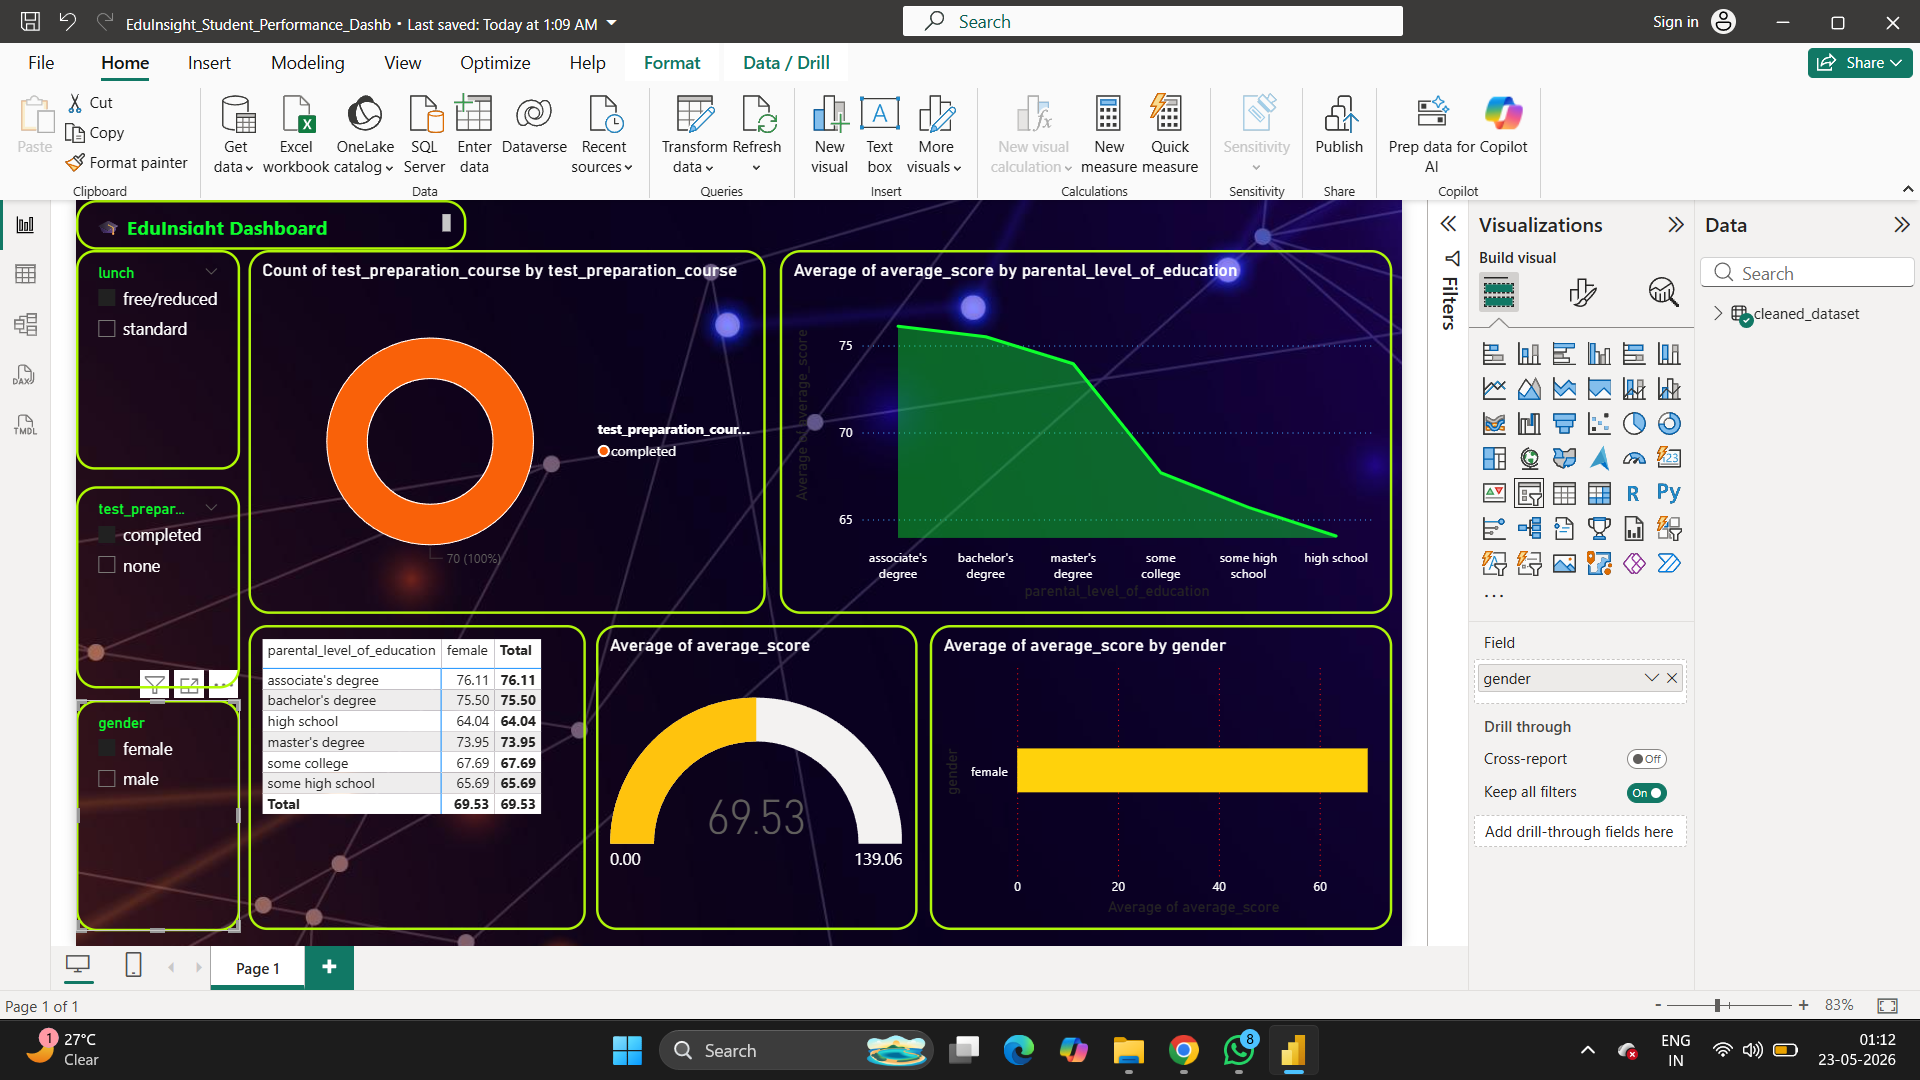

The page's visual inventory and layout, read from the dashboard file:
{"tool":"powerbi","page":{"name":"Page 1","canvas":[1280,720],"ordinal":0},"visuals":[{"type":"gauge","fields":{"Y":["Avg(cleaned_dataset.average_score)"]},"box":[501.9,410.2,310.1,294.4],"z":0},{"type":"barChart","fields":{"Category":["cleaned_dataset.gender"],"Y":["Avg(cleaned_dataset.average_score)"]},"box":[824,410.2,446.4,294.4],"z":1000},{"type":"donutChart","fields":{"Category":["cleaned_dataset.test_preparation_course"],"Y":["CountNonNull(cleaned_dataset.test_preparation_course)"]},"box":[166.5,48.3,499.5,351.1],"z":2000},{"type":"areaChart","fields":{"Category":["cleaned_dataset.parental_level_of_education"],"Y":["Avg(cleaned_dataset.average_score)"]},"box":[679.2,48.3,591.2,351.1],"z":3000},{"type":"pivotTable","fields":{"Rows":["cleaned_dataset.parental_level_of_education"],"Columns":["cleaned_dataset.gender"],"Values":["Avg(cleaned_dataset.average_score)"]},"box":[166.5,410.2,325.7,294.4],"z":4000},{"type":"slicer","fields":{"Values":["cleaned_dataset.gender"]},"box":[0,482.6,158,223.2],"z":5000},{"type":"slicer","fields":{"Values":["cleaned_dataset.lunch"]},"box":[0,48.3,158,212.3],"z":6000},{"type":"slicer","fields":{"Values":["cleaned_dataset.test_preparation_course"]},"box":[0,276.3,158,195.4],"z":7000},{"type":"textbox","box":[0,0,376.4,48.3],"z":8000}]}

Visuals, with their boxes on the page's 1280x720 design canvas (x1, y1, x2, y2). These are canvas units, not pixel positions in the 1920x1080 screenshot, which may show the page scaled, cropped or inside an application window:
gauge - Avg(cleaned_dataset.average_score): bbox=(502, 410, 812, 705)
barChart - cleaned_dataset.gender x Avg(cleaned_dataset.average_score): bbox=(824, 410, 1270, 705)
donutChart - cleaned_dataset.test_preparation_course x CountNonNull(cleaned_dataset.test_preparation_course): bbox=(166, 48, 666, 399)
areaChart - cleaned_dataset.parental_level_of_education x Avg(cleaned_dataset.average_score): bbox=(679, 48, 1270, 399)
pivotTable - cleaned_dataset.parental_level_of_education x cleaned_dataset.gender: bbox=(166, 410, 492, 705)
slicer - cleaned_dataset.gender: bbox=(0, 483, 158, 706)
slicer - cleaned_dataset.lunch: bbox=(0, 48, 158, 261)
slicer - cleaned_dataset.test_preparation_course: bbox=(0, 276, 158, 472)
textbox: bbox=(0, 0, 376, 48)
